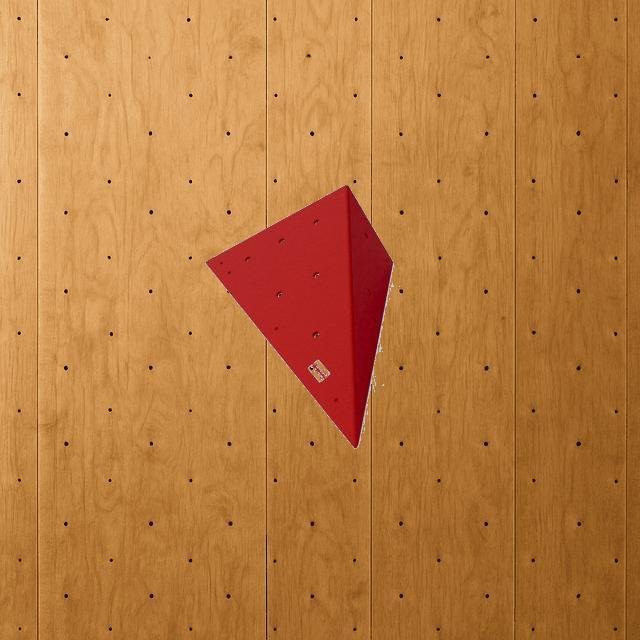Volume: (204, 183, 392, 444)
